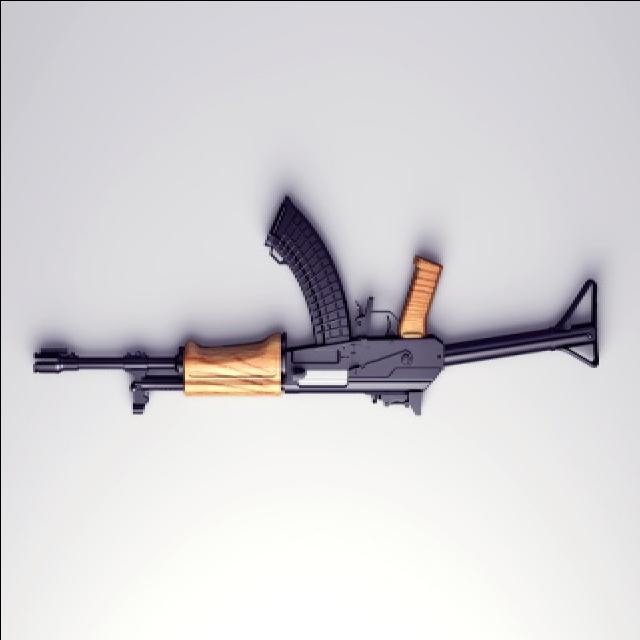rifle: (27, 195, 615, 434)
